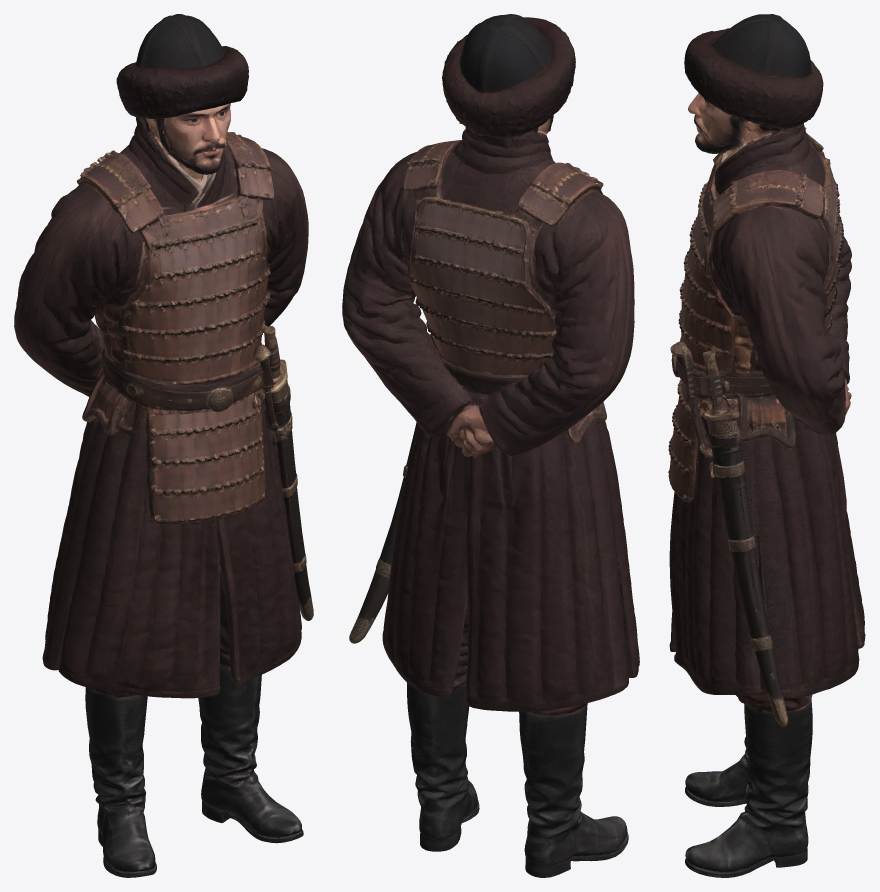
The model's file is ancestor_3.glb.
3 views of the same model, side by side, from view 1: azimuth 30°, elevation 25°; view 2: azimuth 150°, elevation 25°; view 3: azimuth 270°, elevation 25° (orthographic).
Visible parts, largest first — view 1: ancestor; view 2: ancestor; view 3: ancestor.
Boxes of the visible parts, x1,y1,x2,y2 form: ancestor: (14,14,313,877); ancestor: (342,14,639,877); ancestor: (668,14,865,877).
Size of the model in its own units: 0.6512 by 1.8 by 0.3937.
Materials: 1 (1 with a texture image).
